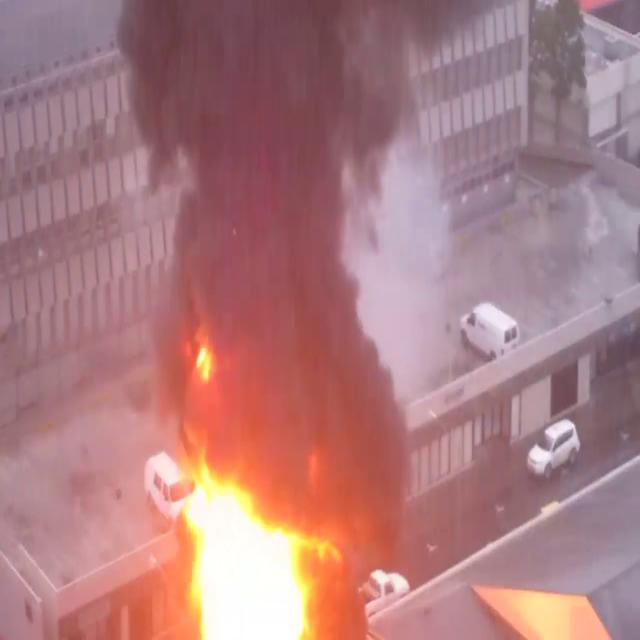Fire: (152, 439, 340, 637)
Smoke: (108, 1, 446, 456)
